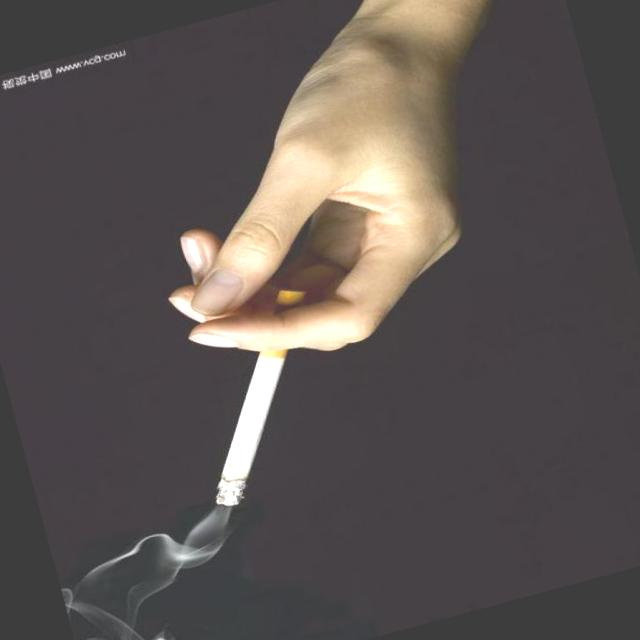smoke: (160, 274, 364, 518)
